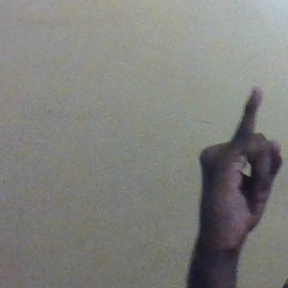I: (198, 84, 284, 243)
